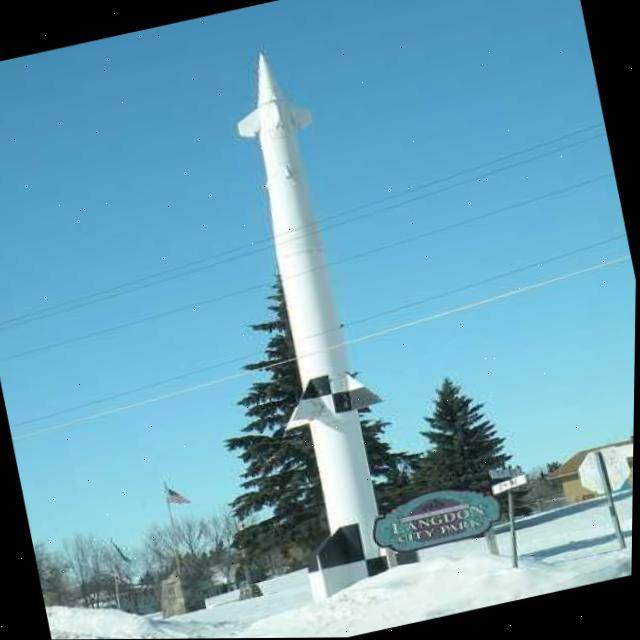missile: (218, 39, 430, 598)
